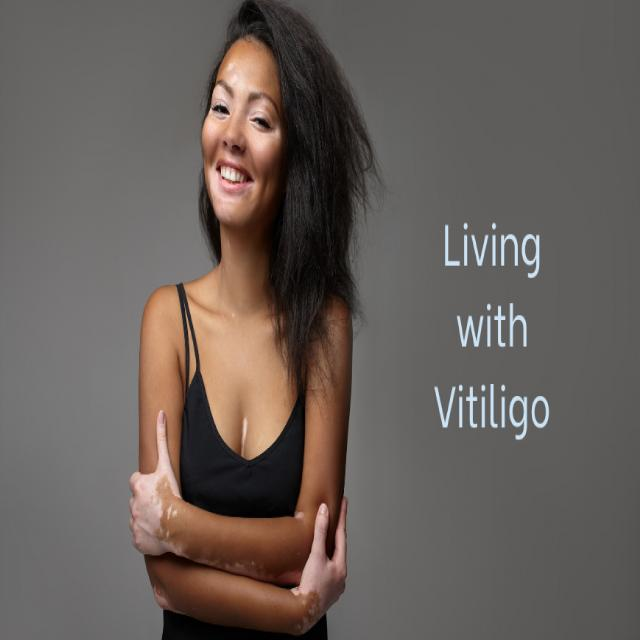vitiligo: (208, 64, 280, 215), (289, 519, 351, 639), (133, 429, 188, 556)
